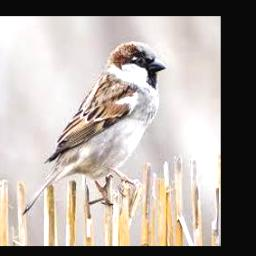Sparrow: (22, 40, 166, 215)
